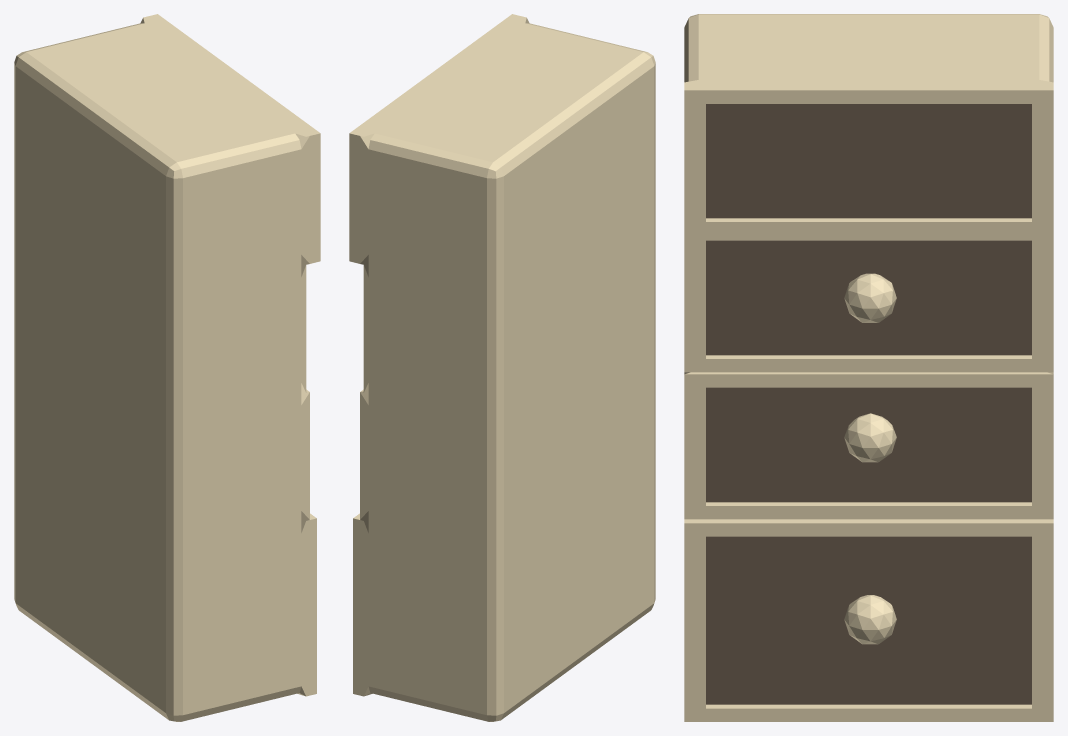
File: Almirah3.fbx
The picture shows the model from 3 angles, left to right: view 1: azimuth 30°, elevation 25°; view 2: azimuth 150°, elevation 25°; view 3: azimuth 270°, elevation 25°; orthographic projection. The views are drawn at different scales.
Parts seen in each view (by area): view 1: Almirah.002; view 2: Almirah.002; view 3: Almirah.002.
Boxes of the visible parts, left/top/right/bottom form: Almirah.002: left=14, top=14, right=320, bottom=721; Almirah.002: left=349, top=14, right=655, bottom=721; Almirah.002: left=684, top=14, right=1053, bottom=721.
Size of the model in its own units: 47.73 by 159 by 83.94.
